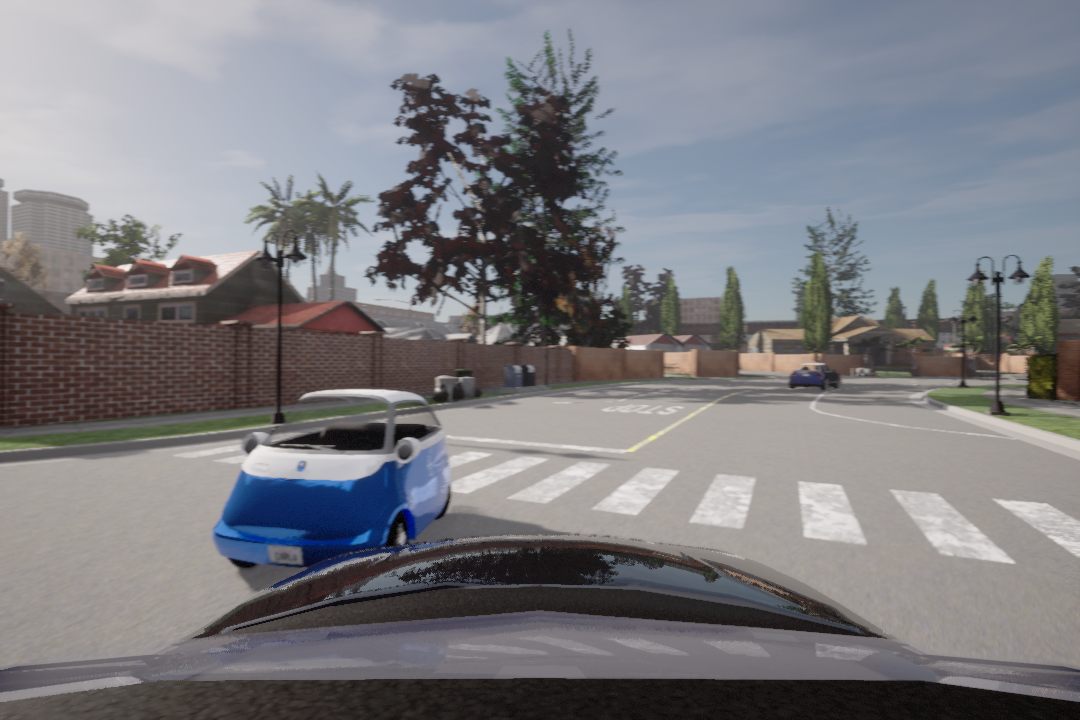walkside: (142, 443, 1079, 585)
